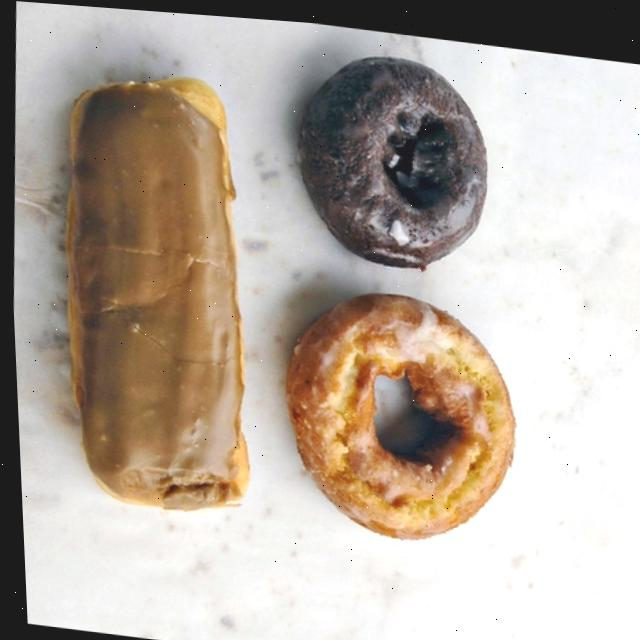炸货点心: (27, 2, 551, 578)
